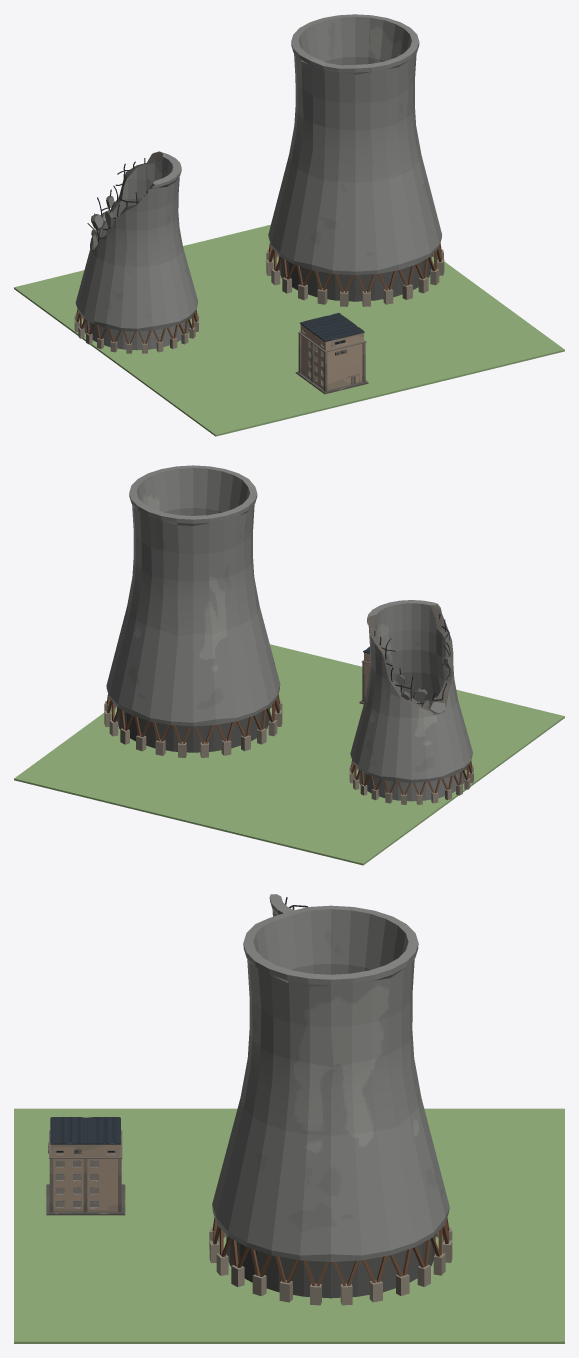
File: nuclear-plant.glb
The picture shows the model from 3 angles, top to bottom: view 1: azimuth 30°, elevation 25°; view 2: azimuth 150°, elevation 25°; view 3: azimuth 270°, elevation 25°; orthographic projection. The views are drawn at different scales.
Visible parts, largest first — view 1: Ground, Nuclear_CoolingTower, Nuclear_CoolingTower2, Nuclear_Reactor; view 2: Ground, Nuclear_CoolingTower, Nuclear_CoolingTower2; view 3: Ground, Nuclear_CoolingTower, Nuclear_Reactor.
Part boxes in pixels (x1,y1,x2,y2): Ground: (14,224,564,436); Nuclear_CoolingTower: (266,14,444,306); Nuclear_CoolingTower2: (74,151,198,353); Nuclear_Reactor: (295,313,368,394); Ground: (14,644,564,865); Nuclear_CoolingTower: (104,465,282,757); Nuclear_CoolingTower2: (349,600,473,804); Ground: (14,1108,564,1343); Nuclear_CoolingTower: (209,905,452,1305); Nuclear_Reactor: (46,1117,125,1215).
Size of the model in its own units: 33.52 by 21.75 by 32.
2 materials, 1 textured.
